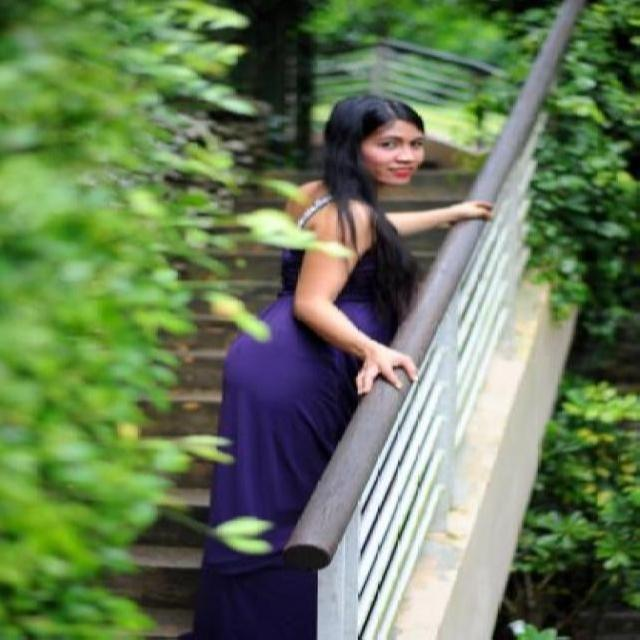stair: (90, 176, 476, 640)
